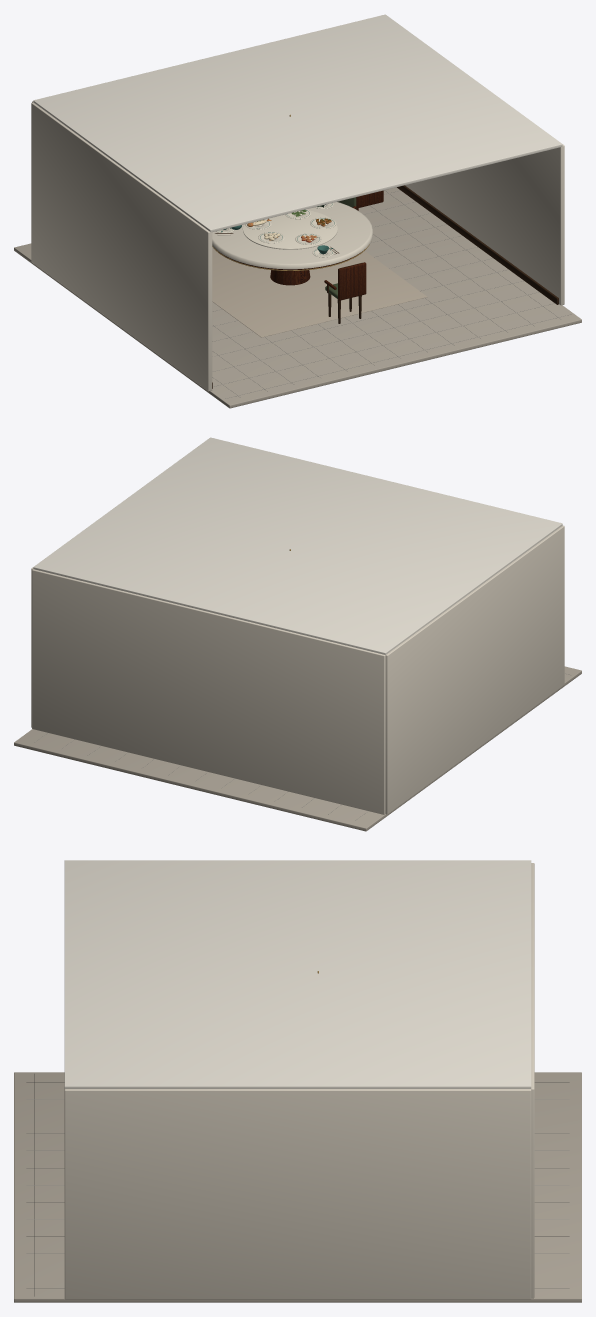
Rendered from room-work.glb.
The picture shows the model from 3 angles, top to bottom: view 1: azimuth 30°, elevation 25°; view 2: azimuth 150°, elevation 25°; view 3: azimuth 270°, elevation 25°; orthographic projection. The views are drawn at different scales.
Parts seen in each view (by area): view 1: Ceiling, Surface sc:wall, Floor, Surface sc:napkin, Surface sc:floorJoint, Surface sc:porcelain, Surface sc:woodEdge, Surface wood_table_001.002, Surface sc:porcelain.001, Surface wood_table_001; view 2: Surface sc:wall, Ceiling, Floor; view 3: Ceiling, Surface sc:wall, Floor, Surface sc:floorJoint.
Boxes of the visible parts, x1=… form: Ceiling: x1=33, y1=14, x2=562, y2=232; Surface sc:wall: x1=31, y1=101, x2=564, y2=391; Floor: x1=14, y1=187, x2=581, y2=408; Surface sc:napkin: x1=212, y1=202, x2=372, y2=269; Surface sc:floorJoint: x1=212, y1=190, x2=571, y2=398; Surface sc:porcelain: x1=242, y1=210, x2=337, y2=249; Surface sc:woodEdge: x1=212, y1=185, x2=558, y2=388; Surface wood_table_001.002: x1=338, y1=190, x2=383, y2=300; Surface sc:porcelain.001: x1=216, y1=203, x2=336, y2=257; Surface wood_table_001: x1=270, y1=270, x2=310, y2=285; Surface sc:wall: x1=31, y1=525, x2=564, y2=814; Ceiling: x1=33, y1=437, x2=562, y2=654; Floor: x1=14, y1=666, x2=581, y2=831; Ceiling: x1=64, y1=860, x2=531, y2=1088; Surface sc:wall: x1=64, y1=863, x2=534, y2=1299; Floor: x1=14, y1=1072, x2=581, y2=1302; Surface sc:floorJoint: x1=26, y1=1074, x2=569, y2=1296.
Bounding box in the file's own units: 13.36 × 5.95 × 14.
Materials: 52 (4 with a texture image).
